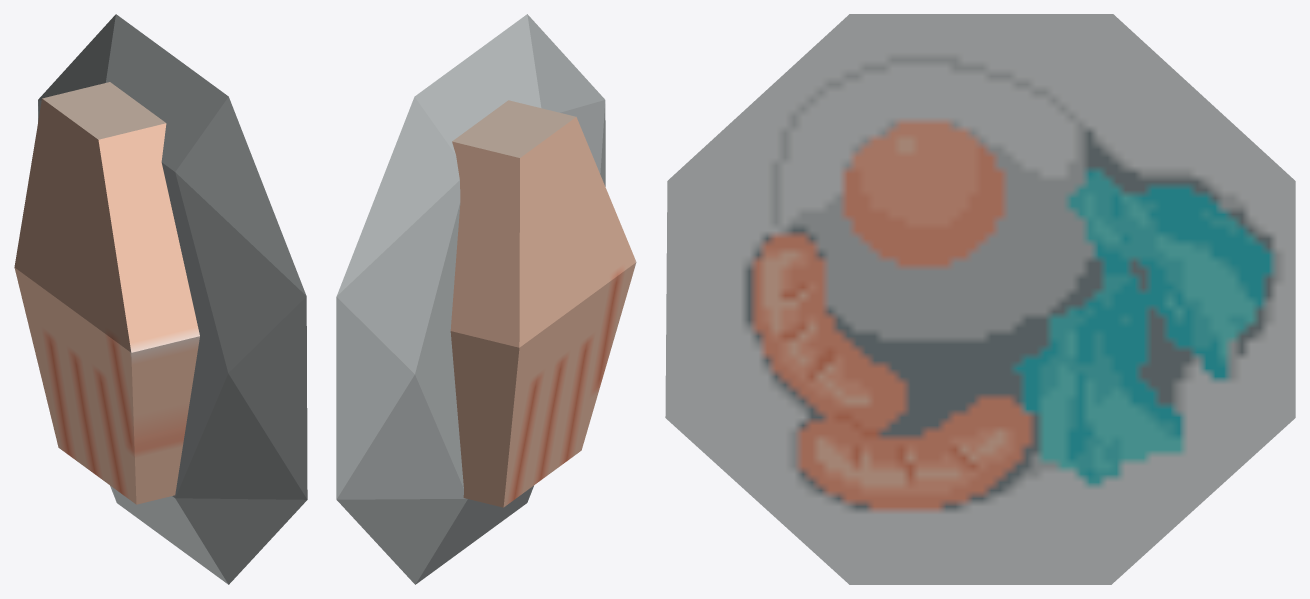
The model's file is 09_RIGHT_HAND_PLATE.obj.
3 views of the same model, side by side, from view 1: azimuth 30°, elevation 25°; view 2: azimuth 150°, elevation 25°; view 3: azimuth 270°, elevation 25° (orthographic). The views are drawn at different scales.
Parts seen in each view (by area): view 1: 09_RIGHT_HAND_PLATE; view 2: 09_RIGHT_HAND_PLATE; view 3: 09_RIGHT_HAND_PLATE.
Boxes of the visible parts, bbox=[...] form: 09_RIGHT_HAND_PLATE: bbox=[14, 14, 307, 584]; 09_RIGHT_HAND_PLATE: bbox=[336, 14, 636, 584]; 09_RIGHT_HAND_PLATE: bbox=[665, 14, 1295, 584].
Bounding box in the file's own units: 0.0719 × 0.325 × 0.325.
1 material, 1 textured.
